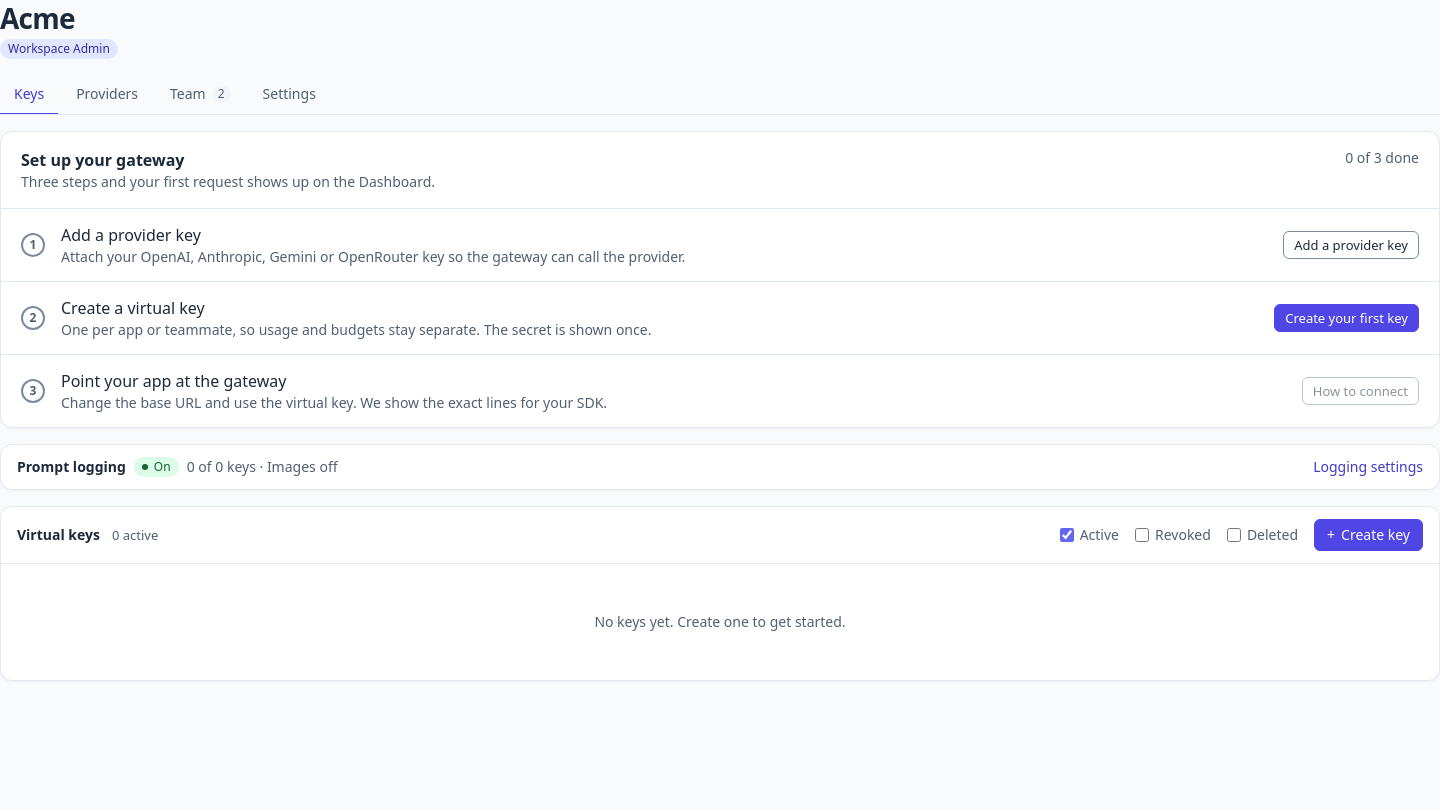
Workspace first-run checklist › walks through the three steps for an empty workspace, and the key step opens the drawer
Check: the heading "Set up your gateway" is shown, box [21, 149, 184, 171]
Check: the text "0 of 3 done" is shown, box [1345, 148, 1419, 168]
Click the button "Create your first key": (1347, 318) [1274, 304, 1419, 332]
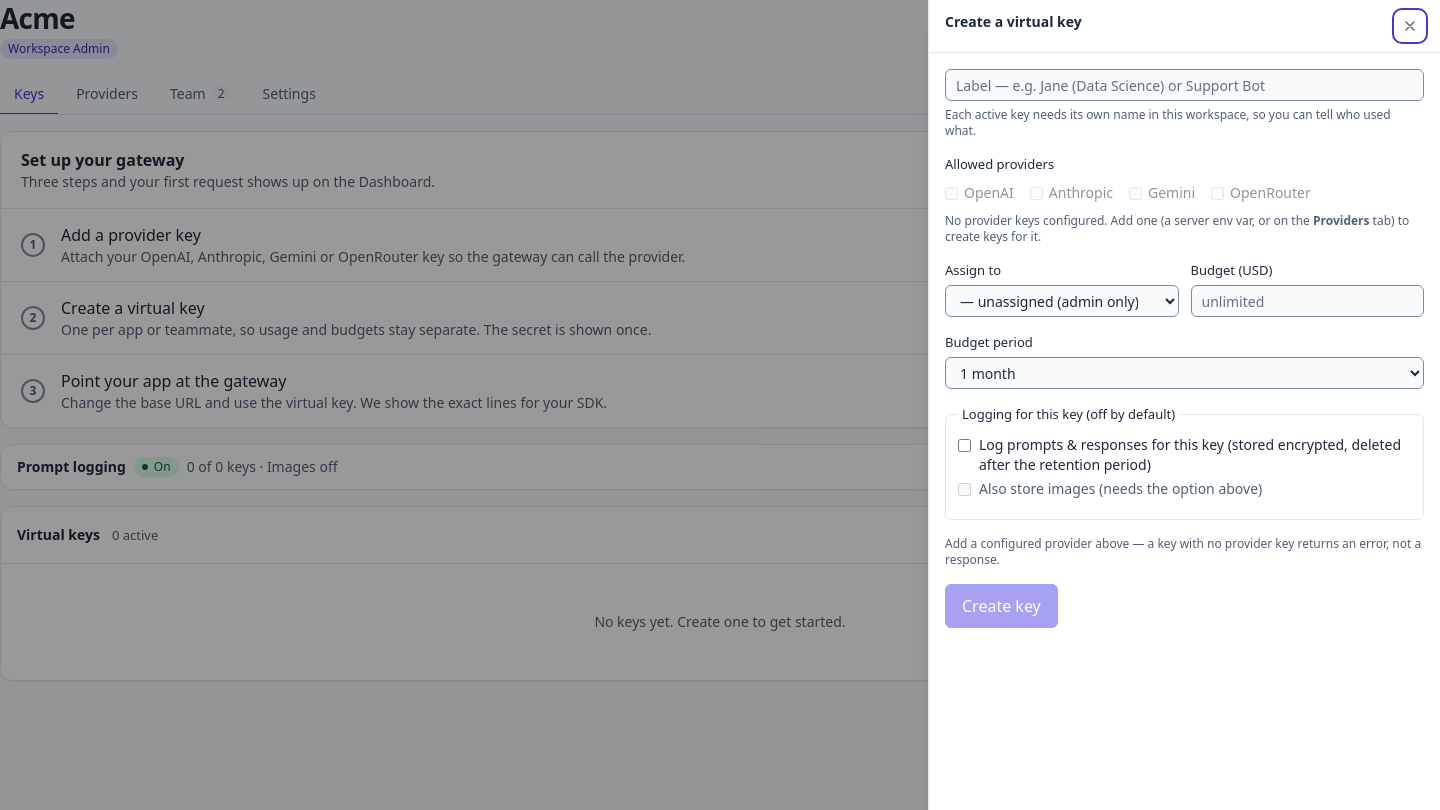
Check: the dialog "Create a virtual key" is shown, box [928, 0, 1439, 809]
